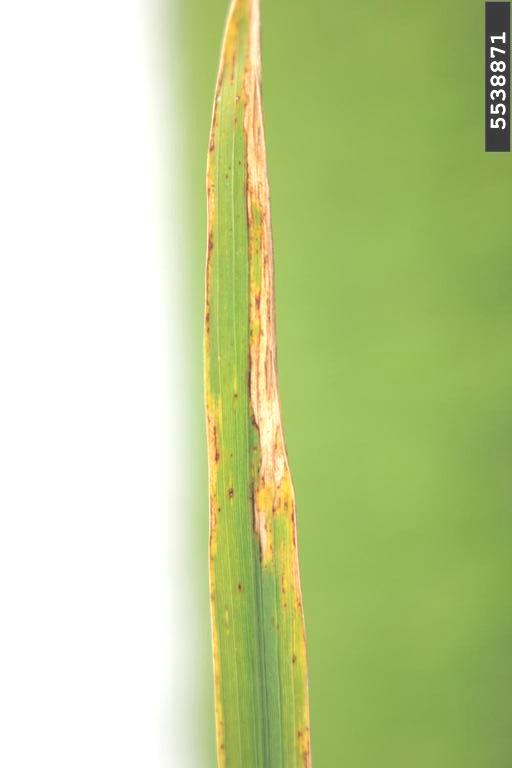2 BacterialBlight: (196, 8, 326, 715)
